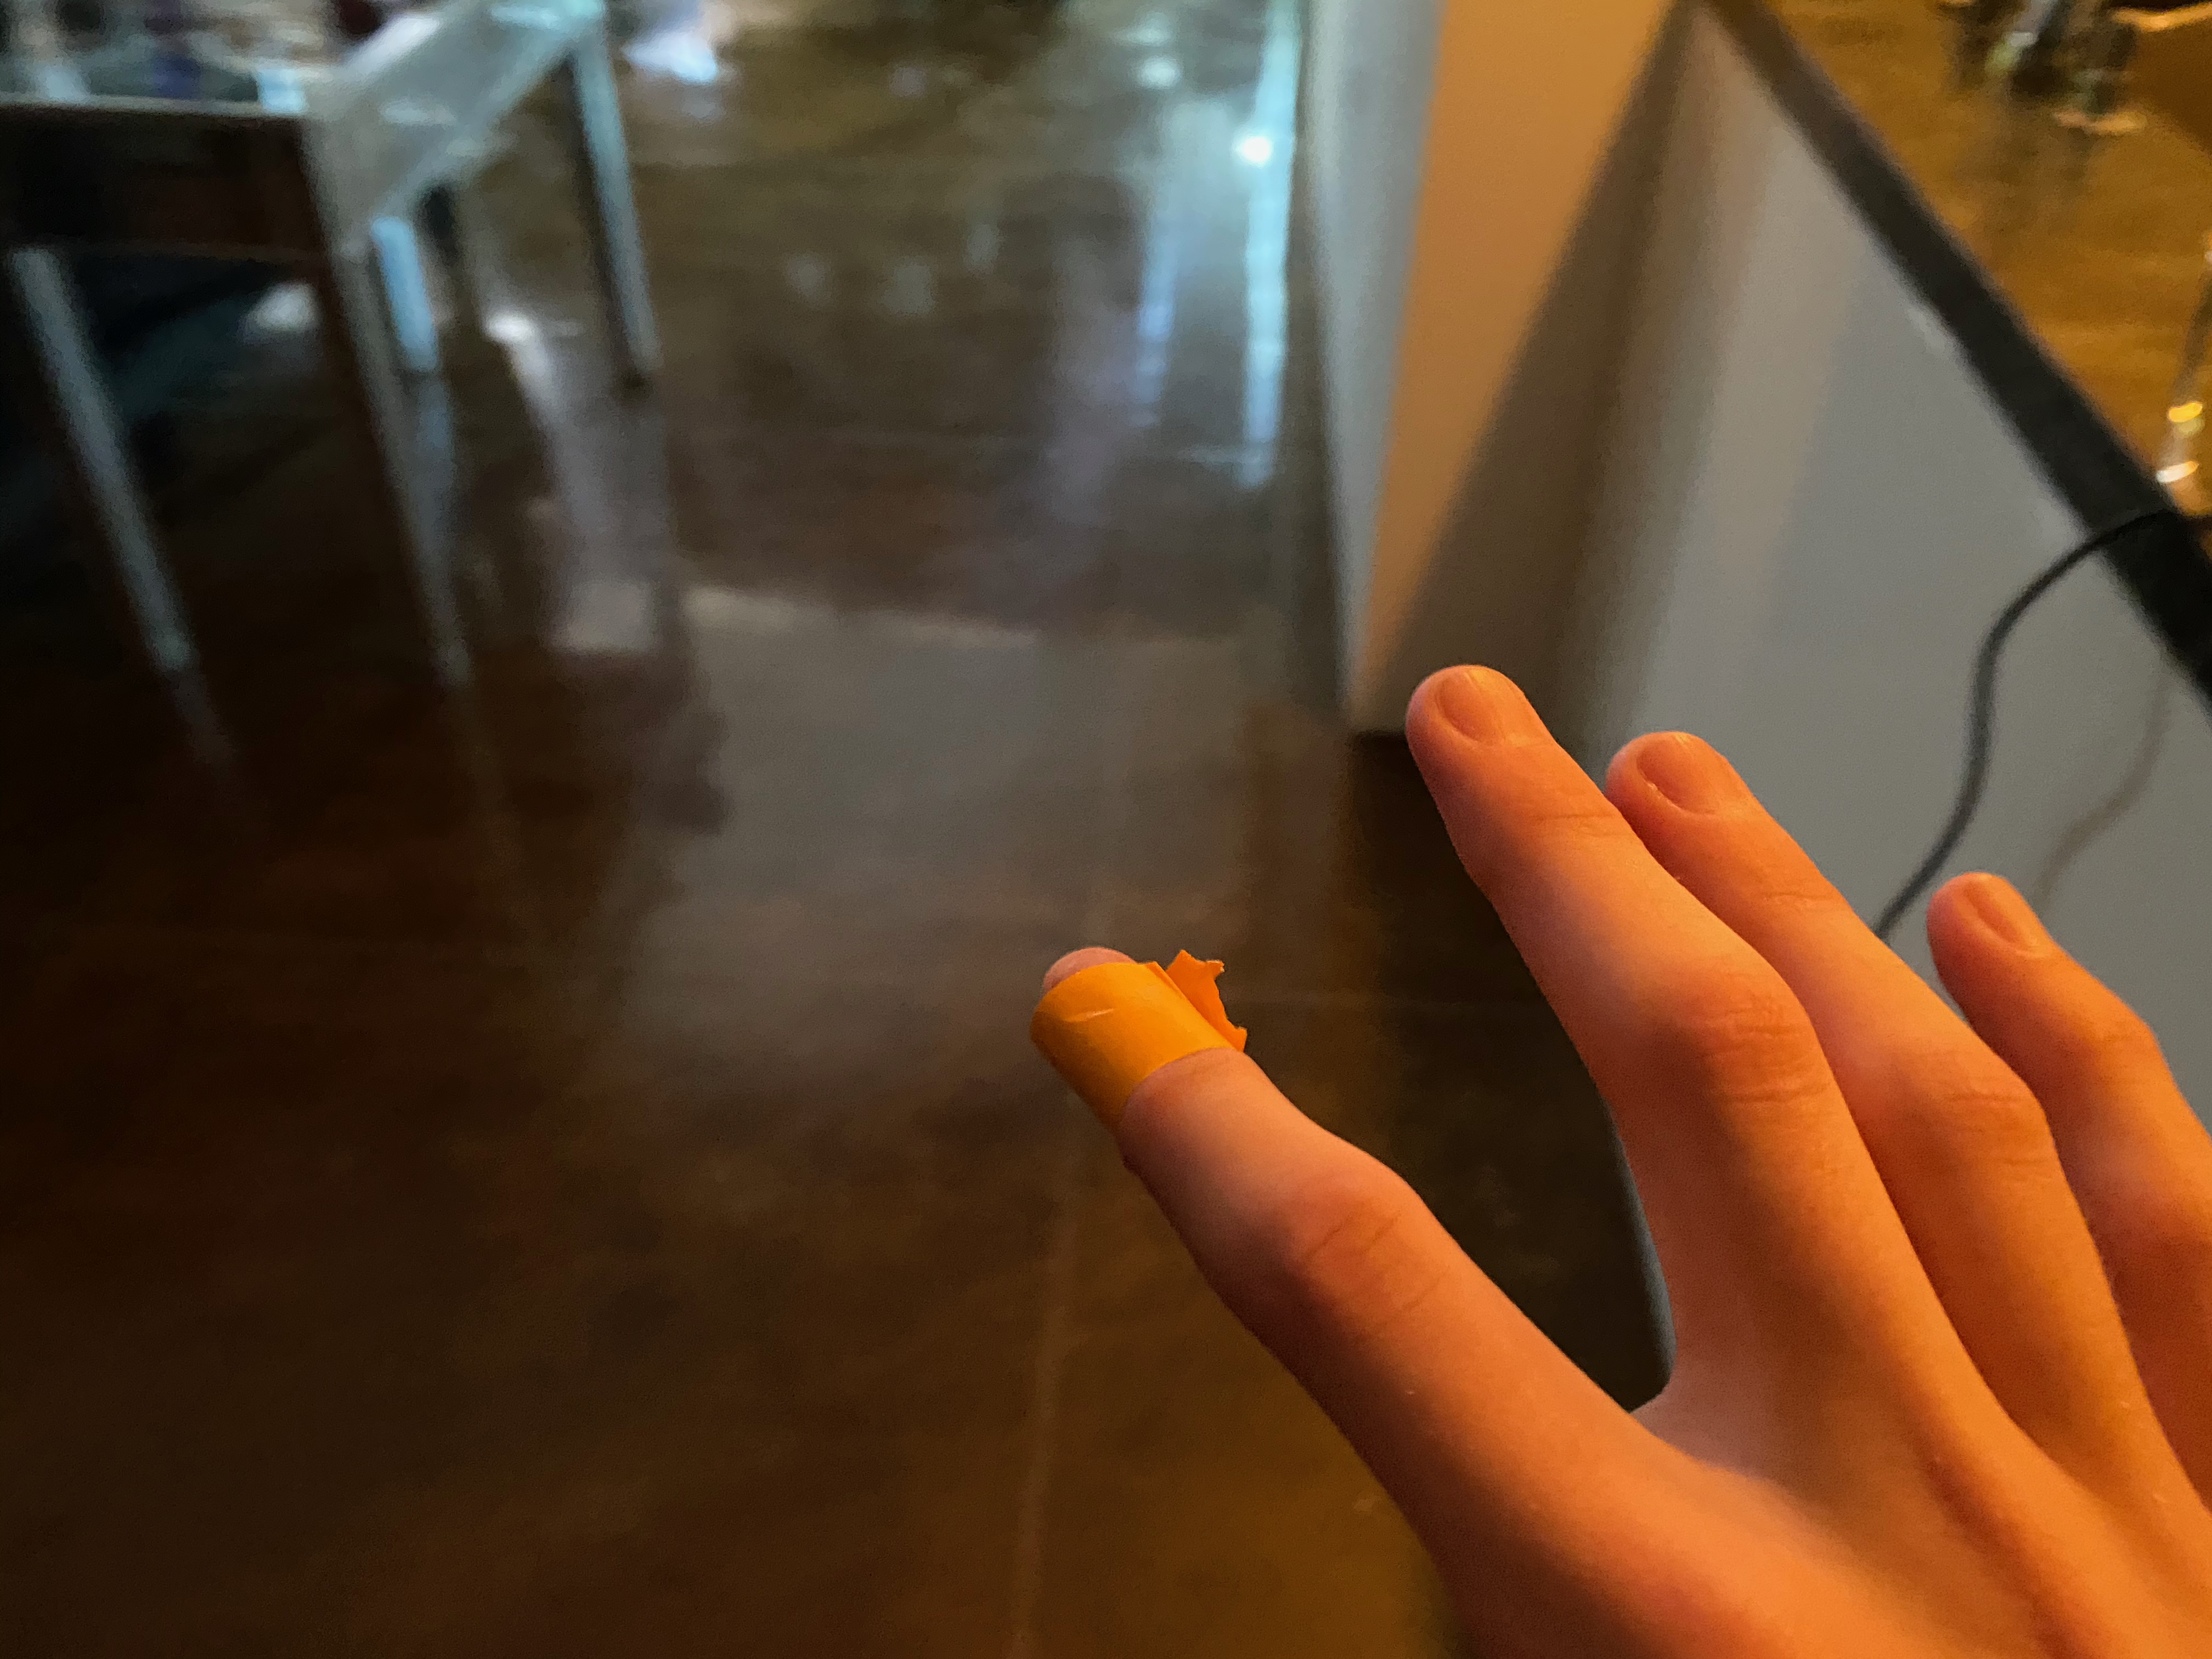fingertip: (972, 929, 1299, 1161)
